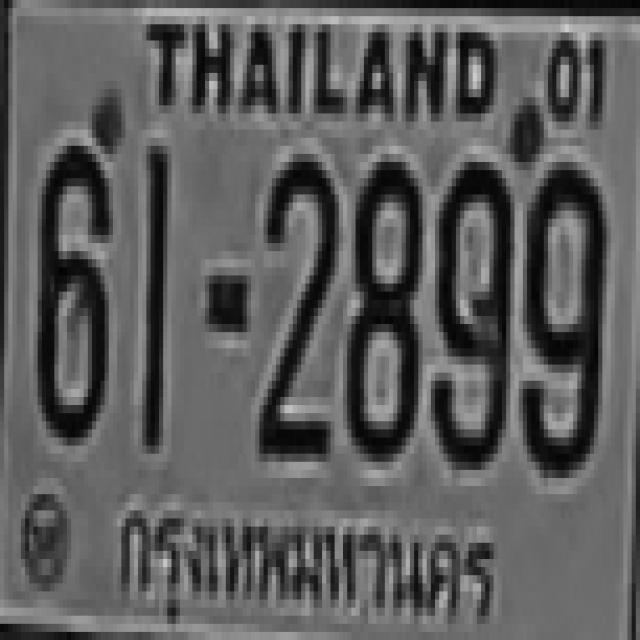1: (142, 137, 163, 446)
2: (259, 146, 335, 454)
6: (33, 138, 109, 437)
8: (343, 154, 418, 454)
9: (519, 154, 602, 470), (429, 154, 508, 462)
Bangkok: (114, 496, 509, 631)
